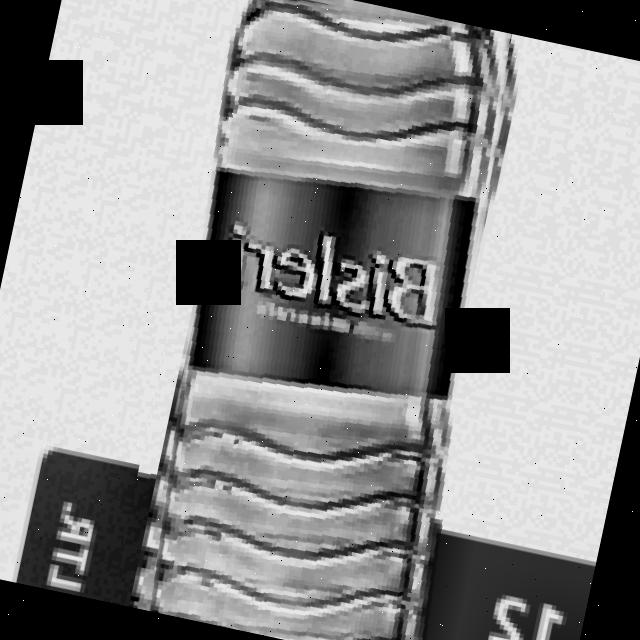bottle: (149, 0, 501, 640)
